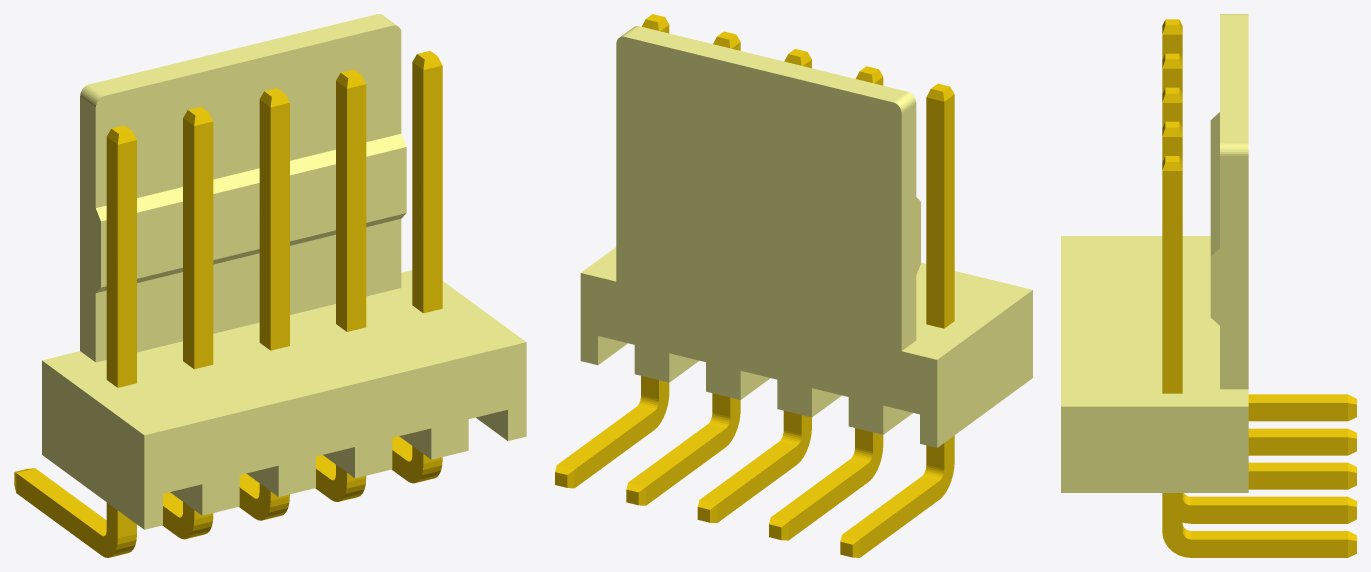
The model's file is DS1070-5MR (WF-5RA CONNFLY).obj.
The picture shows the model from 3 angles, left to right: view 1: azimuth 30°, elevation 25°; view 2: azimuth 150°, elevation 25°; view 3: azimuth 270°, elevation 25°; orthographic projection. The views are drawn at different scales.
Parts seen in each view (by area): view 1: DS1070-5MR_(WF-5RA_CONNFLY); view 2: DS1070-5MR_(WF-5RA_CONNFLY); view 3: DS1070-5MR_(WF-5RA_CONNFLY).
Boxes of the visible parts, x1,y1,x2,y2 form: DS1070-5MR_(WF-5RA_CONNFLY): (14,14,526,557); DS1070-5MR_(WF-5RA_CONNFLY): (555,14,1032,557); DS1070-5MR_(WF-5RA_CONNFLY): (1061,14,1356,557).
Bounding box in the file's own units: 0.0133 × 0.0148 × 0.00975.
